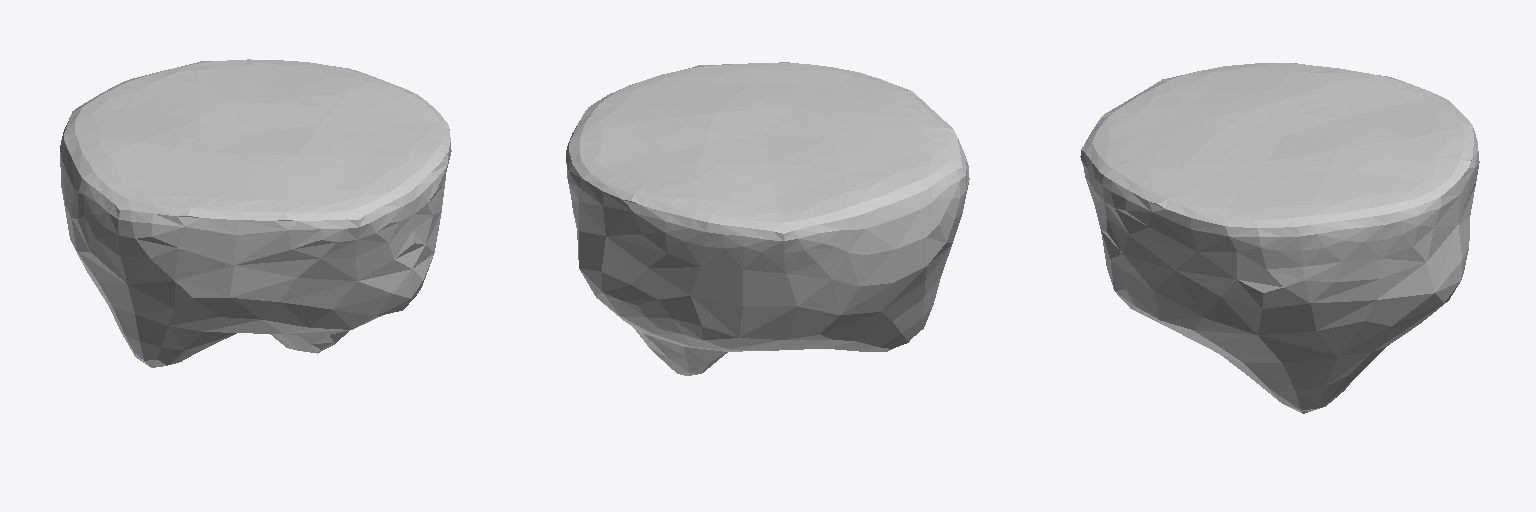
The model's file is island2.obj.
The picture shows the model from 3 angles: view 1: azimuth 30°, elevation 25°; view 2: azimuth 150°, elevation 25°; view 3: azimuth 270°, elevation 25°; orthographic projection.
Visible parts, largest first — view 1: F3:GeoDome1; view 2: F3:GeoDome1; view 3: F3:GeoDome1.
Part boxes in pixels (bbox=[...]): F3:GeoDome1: bbox=[60, 59, 451, 367]; F3:GeoDome1: bbox=[566, 62, 969, 375]; F3:GeoDome1: bbox=[1080, 63, 1479, 413].
Size of the model in its own units: 2.02 by 1.36 by 2.